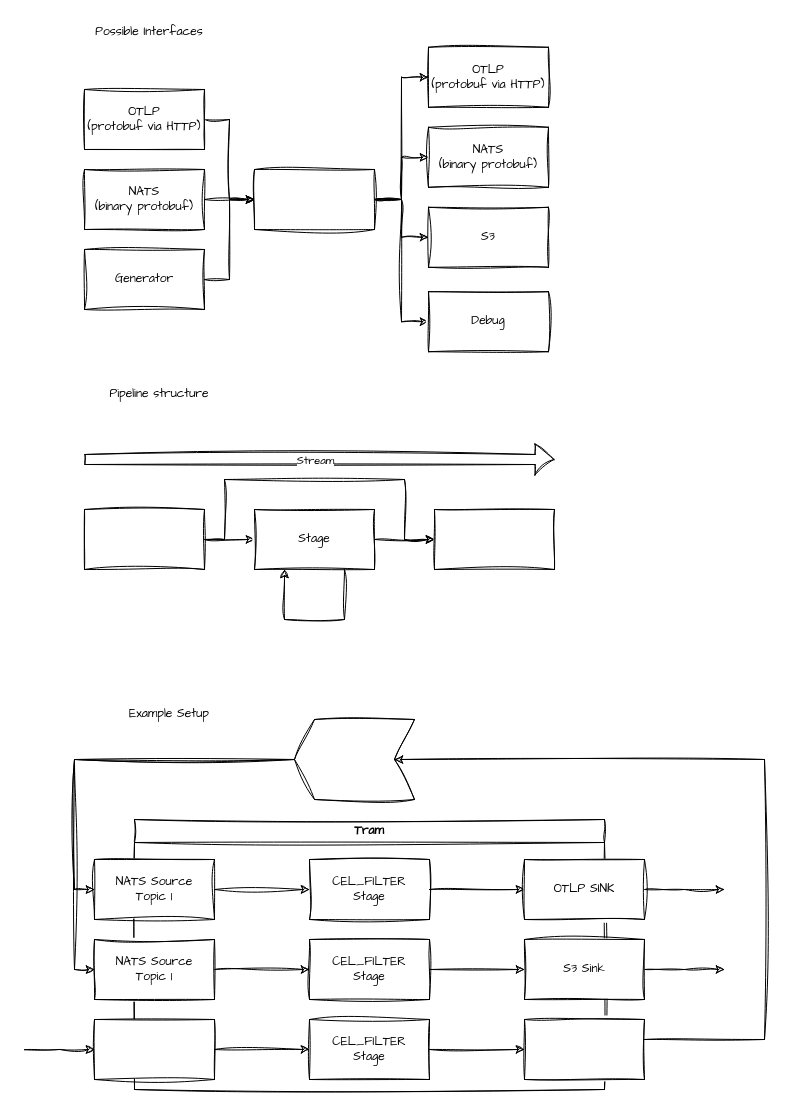
This 790x1107 diagram has some shape labels left out. The shapes that lost their labels are listed below. From the top down, each one's centre as x and y in pixels, then its label:
point (314, 199): Service
point (144, 539): Source
point (494, 539): Sink
point (354, 759): NATS
point (154, 1049): OTLP Source
point (584, 1049): NATS Sink
